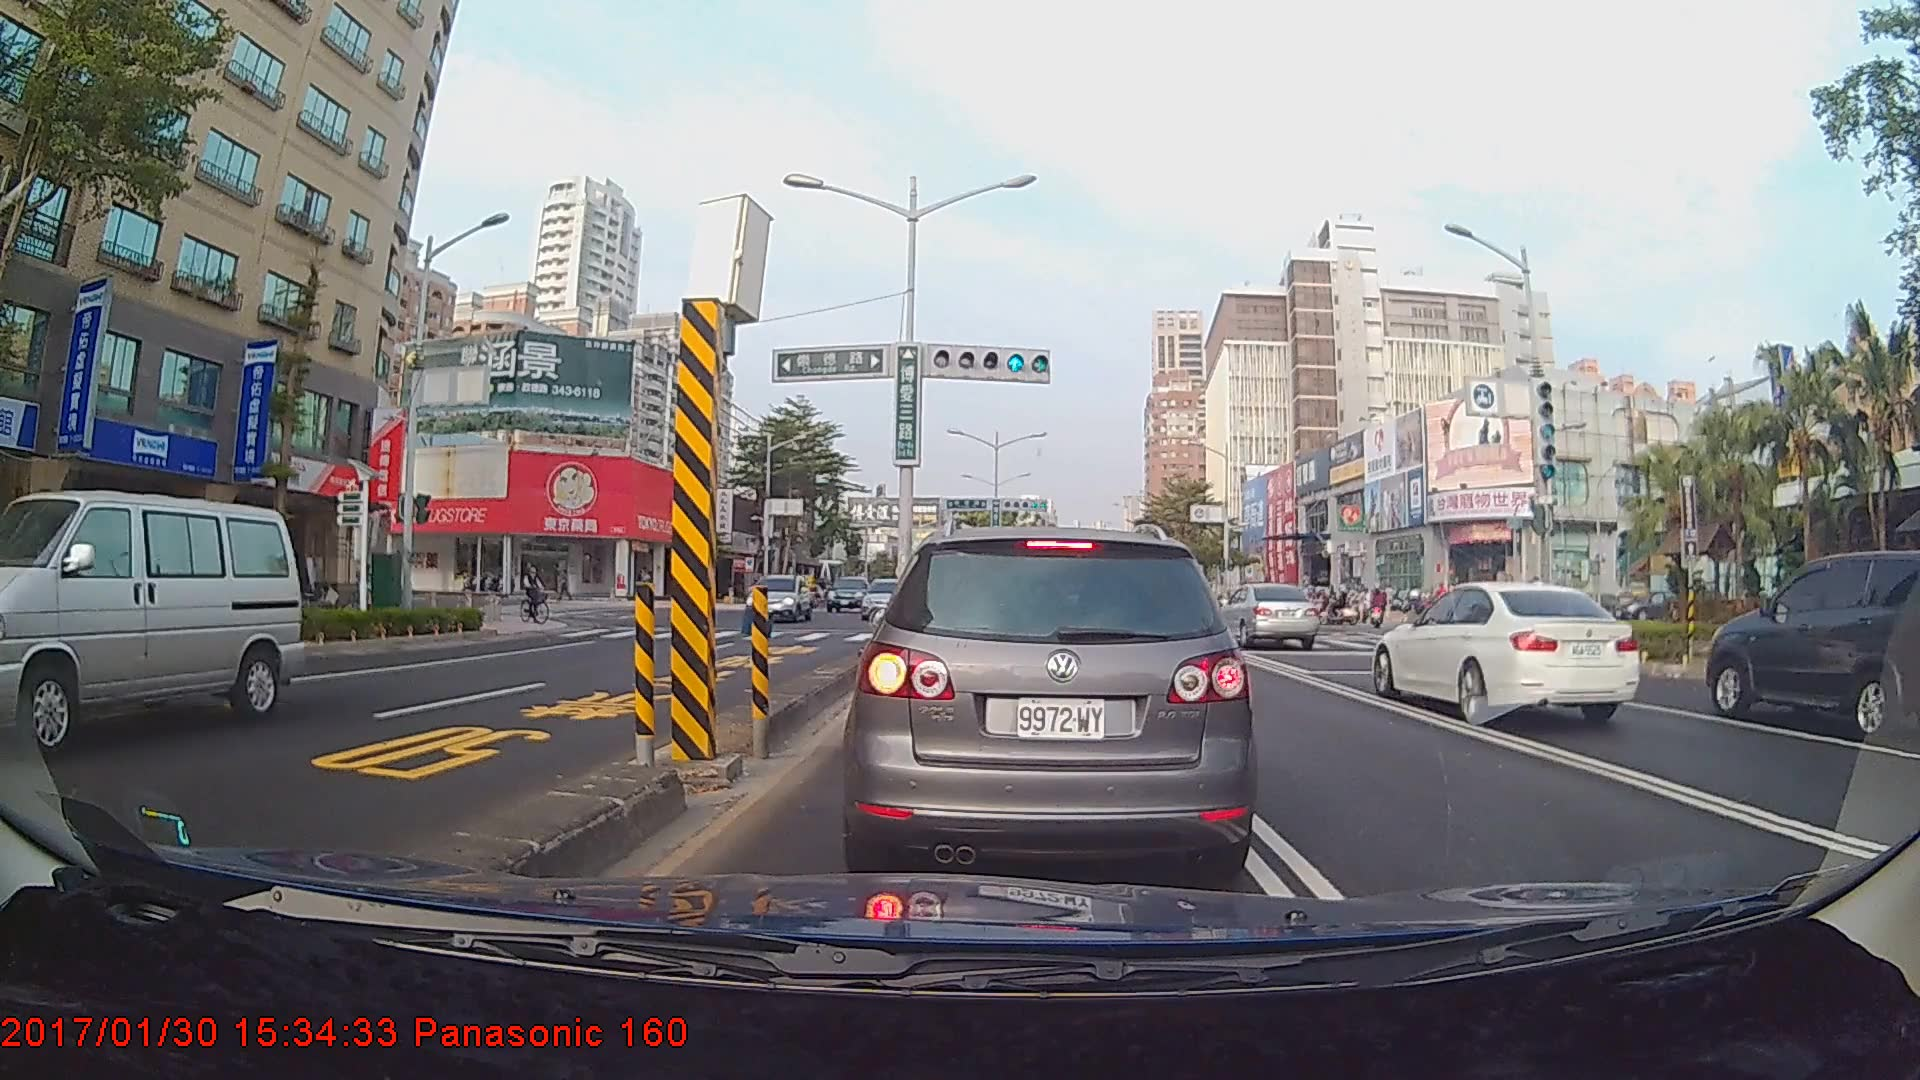rider: (518, 559, 561, 629)
vehicle: (854, 523, 1248, 883), (0, 487, 305, 758), (1366, 579, 1643, 727), (1703, 552, 1919, 741), (1211, 580, 1319, 651), (742, 573, 811, 623), (860, 576, 917, 619), (826, 576, 871, 613)
